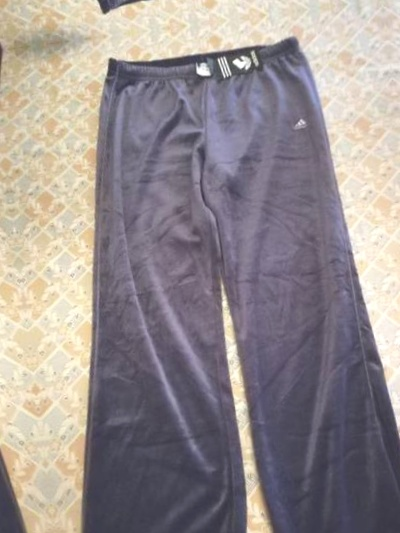Pants: (12, 17, 400, 533), (0, 68, 42, 533), (0, 0, 354, 34)
